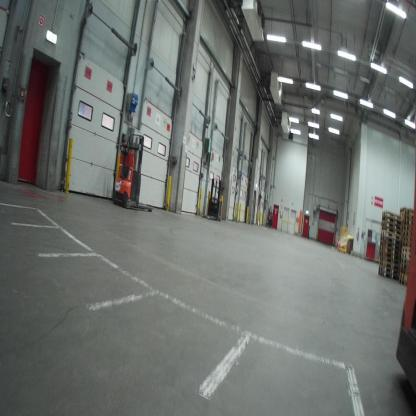pallet: (377, 269, 400, 281), (381, 229, 401, 241), (379, 239, 402, 249), (379, 260, 400, 270), (381, 236, 402, 246), (382, 225, 401, 236), (380, 256, 400, 266), (379, 250, 399, 260), (381, 246, 401, 256), (377, 266, 399, 275), (383, 218, 402, 228), (382, 221, 402, 230), (382, 211, 400, 221), (399, 276, 409, 288), (398, 269, 412, 276), (401, 230, 413, 237), (404, 207, 414, 215), (403, 225, 414, 232), (402, 235, 413, 242), (400, 251, 411, 258), (400, 258, 411, 265), (401, 273, 410, 281), (402, 246, 412, 253), (402, 240, 412, 246), (399, 264, 411, 269), (404, 212, 414, 217), (403, 221, 414, 225), (400, 206, 406, 213), (404, 217, 414, 221)
pallet_truck: (111, 128, 158, 217), (201, 172, 225, 226)
